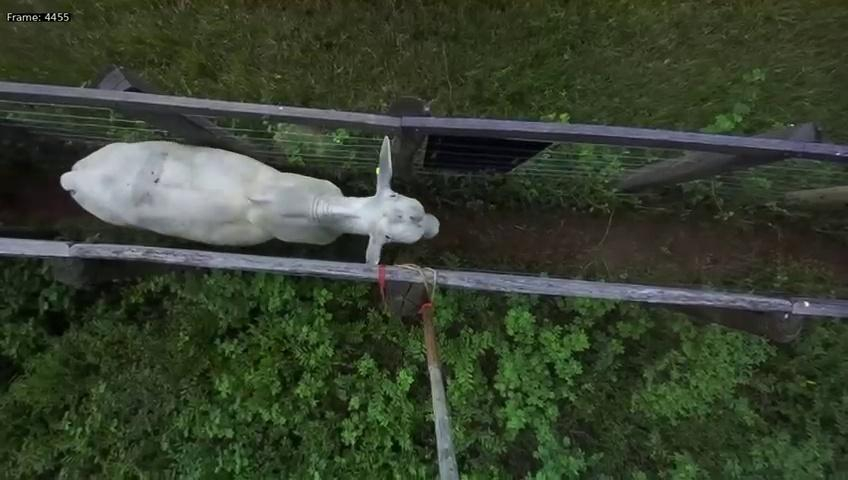cattle: (56, 128, 450, 264)
